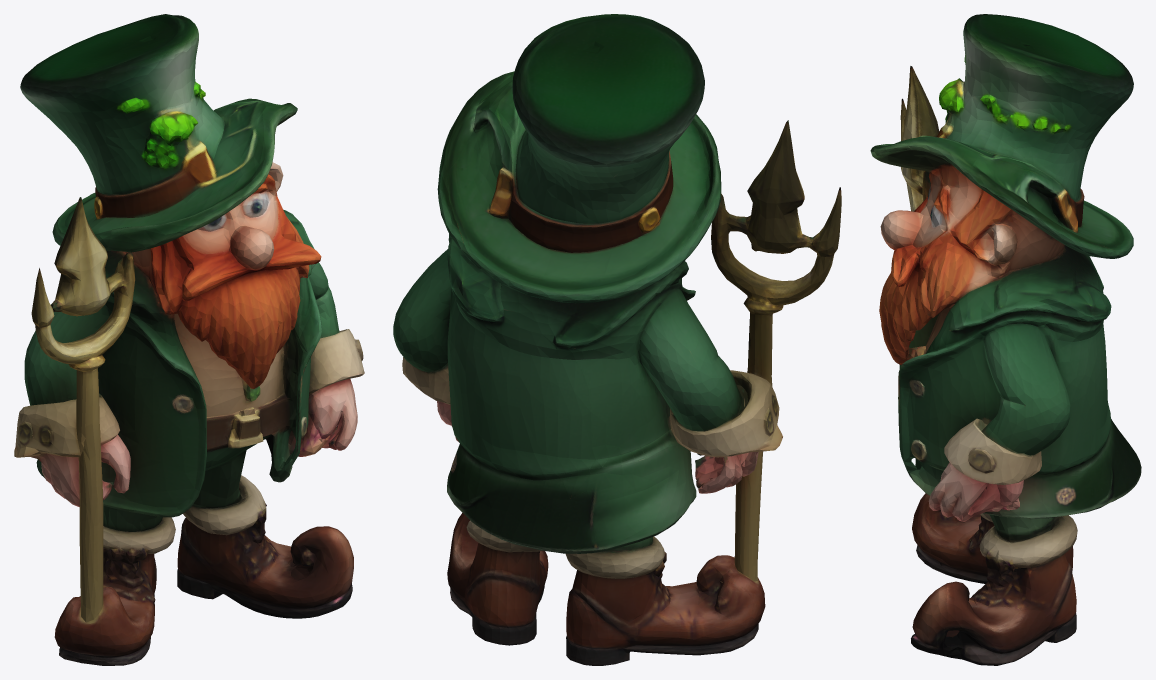
The model's file is vox.glb.
The picture shows the model from 3 angles, left to right: view 1: azimuth 30°, elevation 25°; view 2: azimuth 150°, elevation 25°; view 3: azimuth 270°, elevation 25°; orthographic projection. The views are drawn at different scales.
Visible parts, largest first — view 1: world; view 2: world; view 3: world.
Part boxes in pixels (left/top/right/bottom): world: left=14, top=14, right=364, bottom=665; world: left=393, top=14, right=841, bottom=665; world: left=870, top=14, right=1141, bottom=665.
Size of the model in its own units: 0.6606 by 1 by 0.4368.
Materials: 1 (1 with a texture image).
